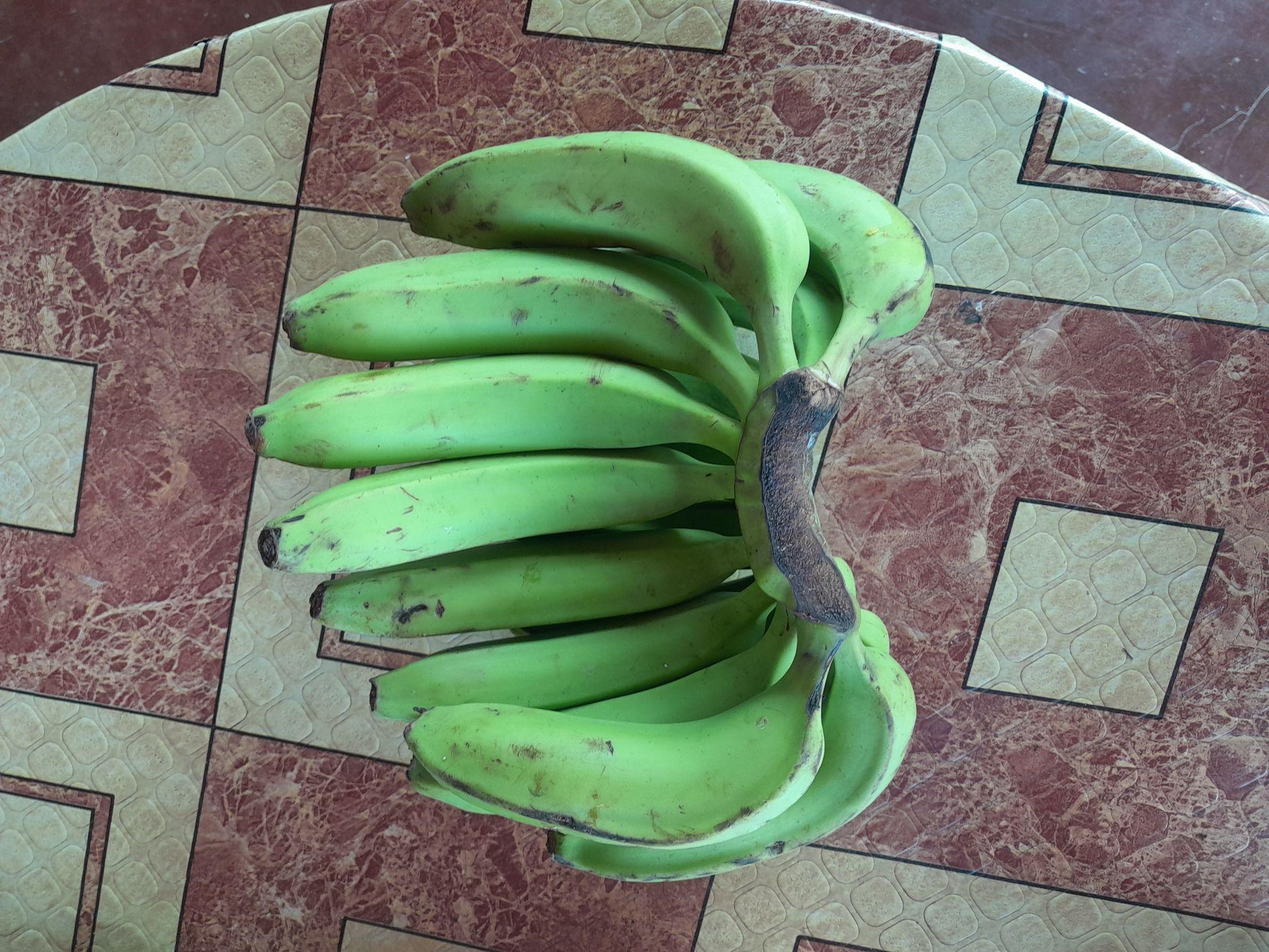Banana Unripe: (402, 131, 810, 384), (406, 620, 843, 845), (550, 632, 915, 880), (283, 248, 756, 415), (258, 446, 734, 573), (245, 355, 741, 469), (369, 585, 776, 720), (310, 528, 749, 637), (751, 161, 934, 387), (568, 610, 798, 724)
